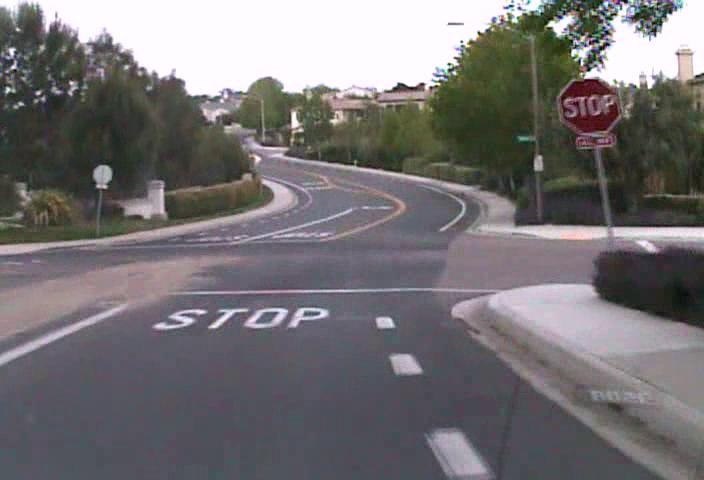stop: (557, 76, 622, 135)
